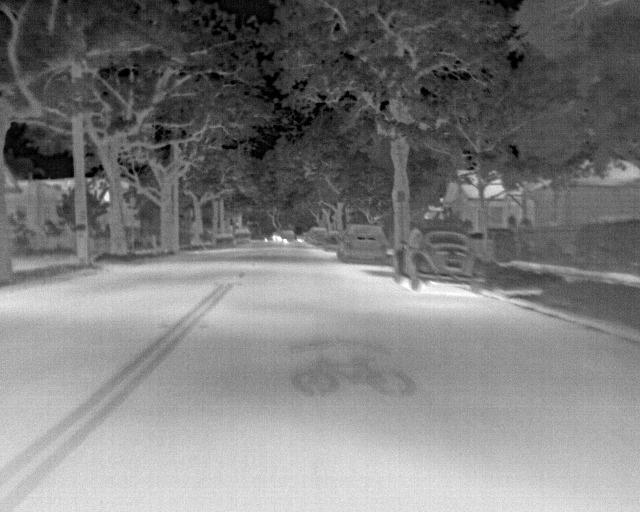car: (393, 227, 485, 293), (338, 222, 387, 267), (214, 227, 235, 248), (304, 223, 323, 246), (322, 229, 339, 252), (234, 225, 252, 244), (278, 228, 296, 243)
